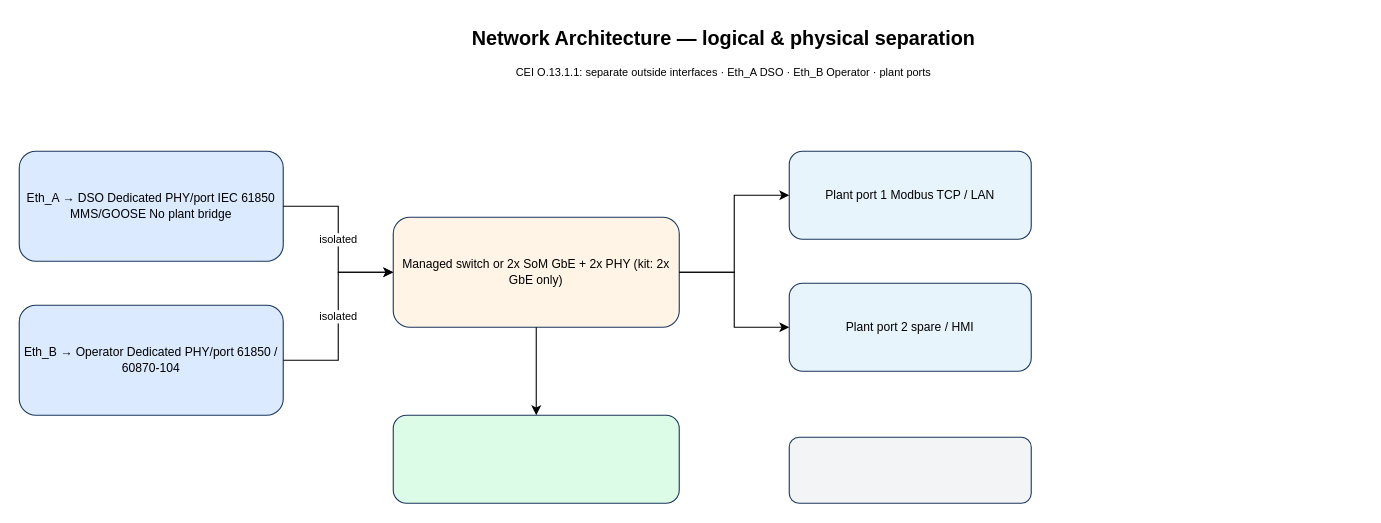
Image size: 1381x523. Some labels were removed from this diagram. The shapes that lost their labels are listed below. From the top down, each one's centre as x and y in pixels, then its label:
point (535, 458): Linux net policy VLAN · firewall · 62351 TLS Audit logging
point (909, 469): USB console (out of cert path)
